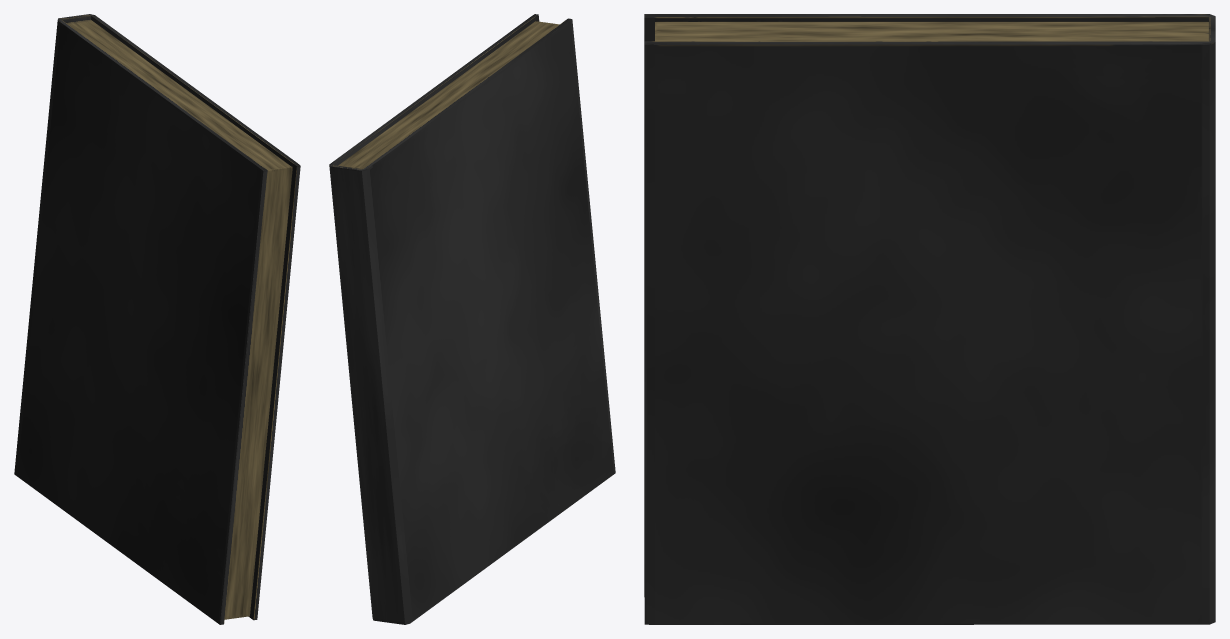
The model's file is Notebook.fbx.
3 views of the same model, side by side, from view 1: azimuth 30°, elevation 25°; view 2: azimuth 150°, elevation 25°; view 3: azimuth 270°, elevation 25° (orthographic). The views are drawn at different scales.
Visible parts, largest first — view 1: Export notebook; view 2: Export notebook; view 3: Export notebook.
Boxes of the visible parts, <box> form: Export notebook: <box>14,14,300,624</box>; Export notebook: <box>329,14,615,624</box>; Export notebook: <box>644,14,1215,624</box>.
Bounding box in the file's own units: 3.95 × 20.83 × 17.54.
